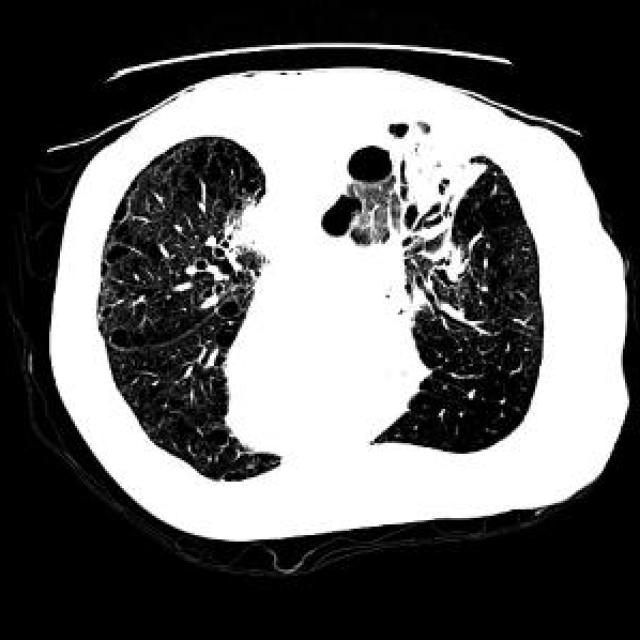Tumor: (244, 214, 265, 248)
